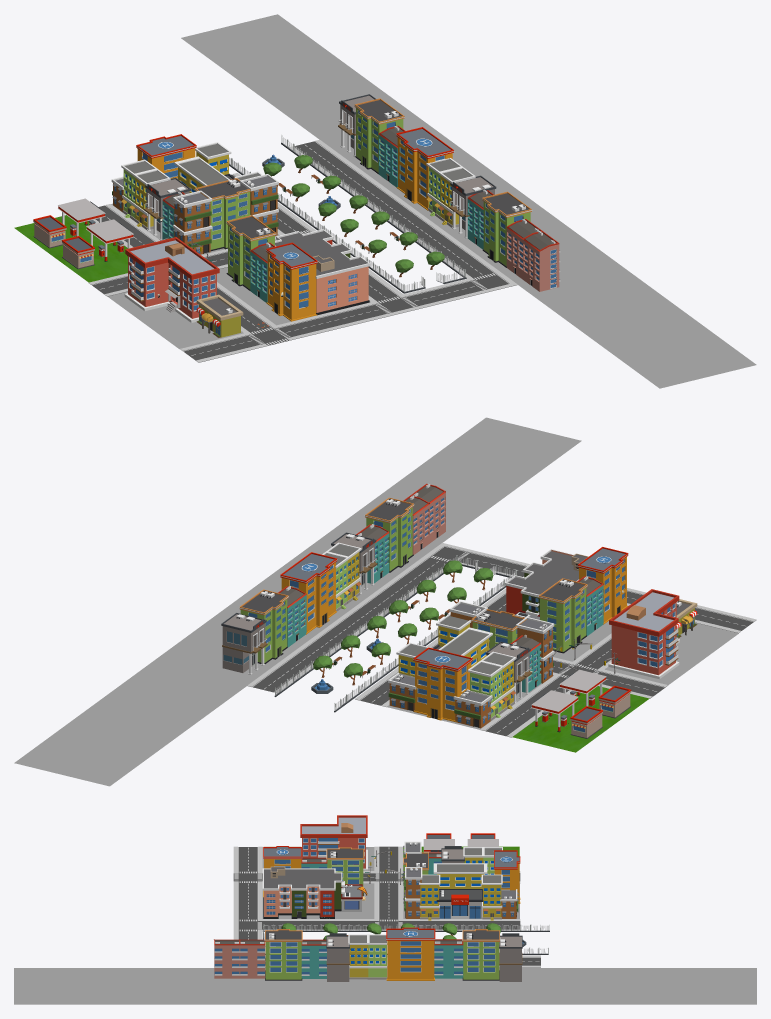
File: mapAJ5.glb
The picture shows the model from 3 angles, top to bottom: view 1: azimuth 30°, elevation 25°; view 2: azimuth 150°, elevation 25°; view 3: azimuth 270°, elevation 25°; orthographic projection. The views are drawn at different scales.
Visible parts, largest first — view 1: Building_2__2__Color_Palette_0.001; view 2: Building_2__2__Color_Palette_0.001; view 3: Building_2__2__Color_Palette_0.001.
Boxes of the visible parts, box(x1,y1,x2,y2) form: Building_2__2__Color_Palette_0.001: box(14, 14, 756, 388); Building_2__2__Color_Palette_0.001: box(14, 417, 756, 786); Building_2__2__Color_Palette_0.001: box(14, 815, 756, 1004).
Bounding box in the file's own units: 258 × 33 × 514.
224 materials, 211 textured.
